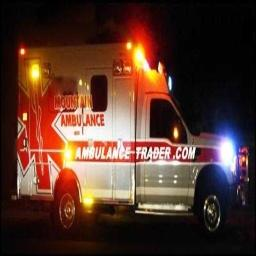ambulance: (17, 43, 247, 233)
